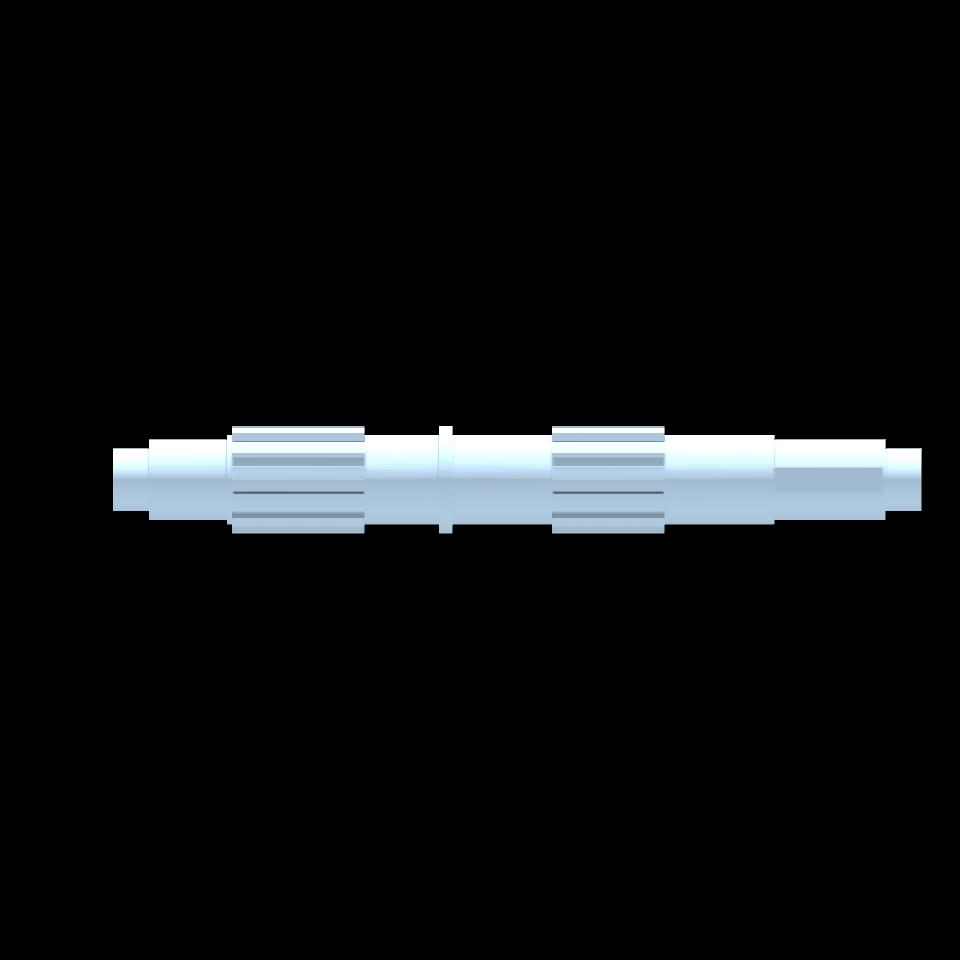Straight: (231, 426, 365, 534), (553, 427, 664, 532)
